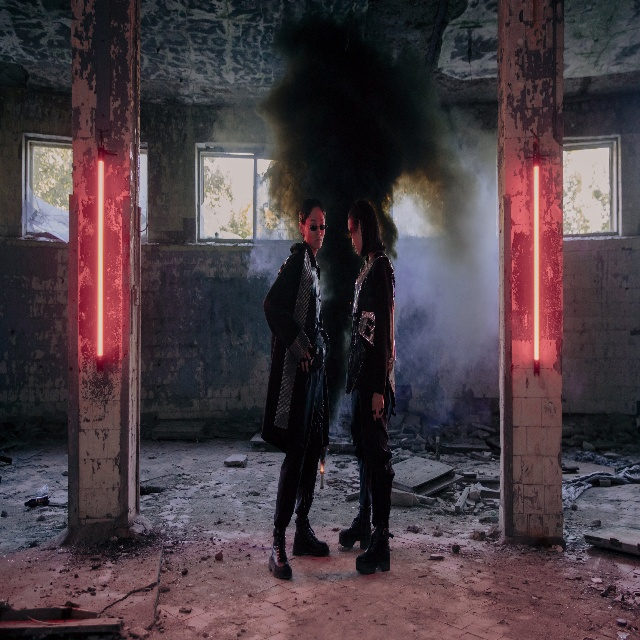Gafas: (308, 222, 328, 234)
Sin_guantes: (298, 343, 314, 373), (371, 393, 384, 421)
